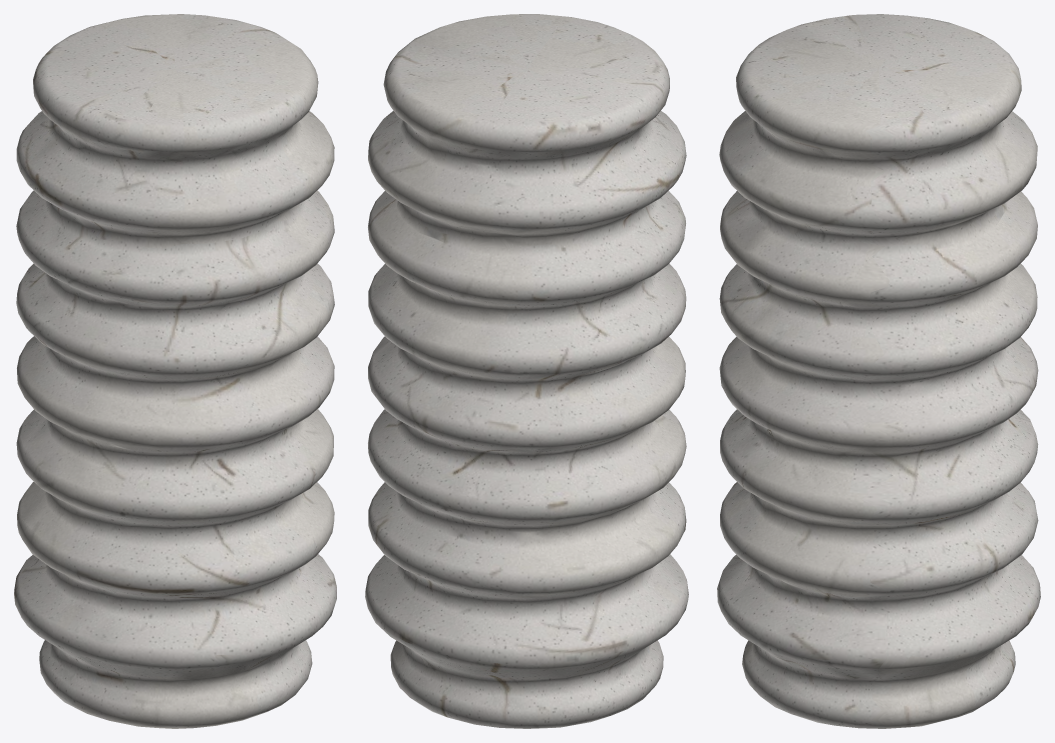
The model's file is screw_2.gltf.
3 views of the same model, side by side, from view 1: azimuth 30°, elevation 25°; view 2: azimuth 150°, elevation 25°; view 3: azimuth 270°, elevation 25° (orthographic).
Parts seen in each view (by area): view 1: Mesh_0.011; view 2: Mesh_0.011; view 3: Mesh_0.011.
Boxes of the visible parts, <box> form: Mesh_0.011: <box>14,14,336,728</box>; Mesh_0.011: <box>365,14,688,728</box>; Mesh_0.011: <box>717,14,1040,728</box>.
Bounding box in the file's own units: 0.078 × 0.1615 × 0.078.
1 material, 1 textured.
